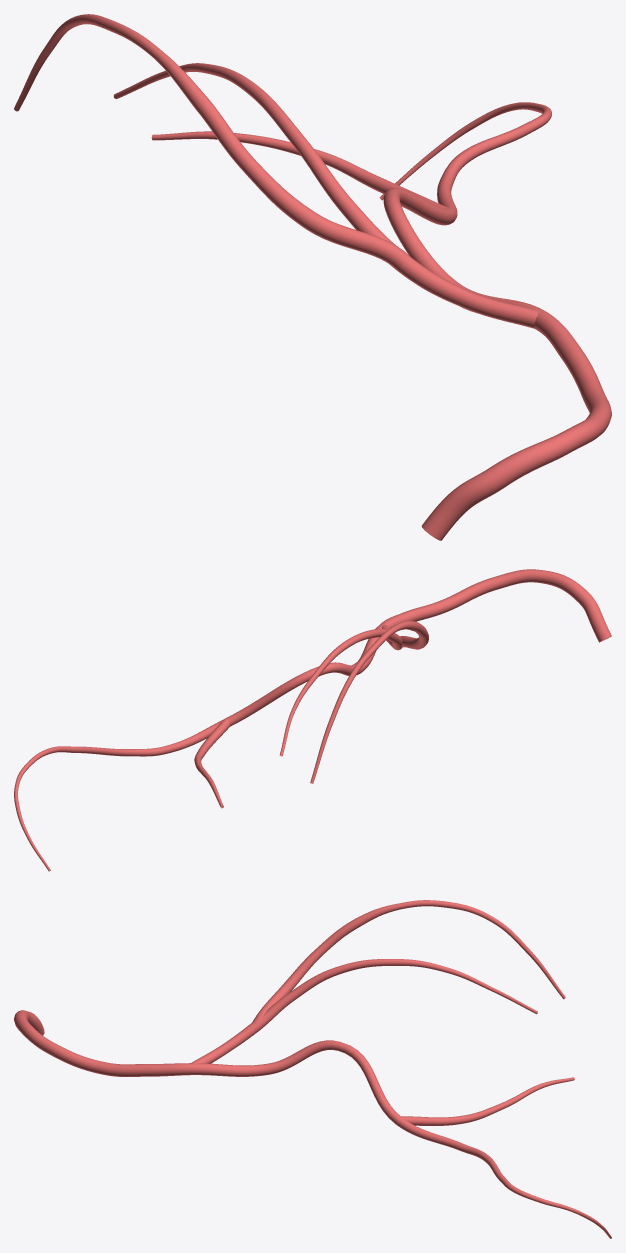
File: Superior_cerebellar_artery.l_BezierCurve.241.glb
3 renders of one model, top to bottom at view 1: azimuth 30°, elevation 25°; view 2: azimuth 150°, elevation 25°; view 3: azimuth 270°, elevation 25°, orthographic. The views are drawn at different scales.
Visible parts, largest first — view 1: Superior_cerebellar_artery.l_BezierCurve.241; view 2: Superior_cerebellar_artery.l_BezierCurve.241; view 3: Superior_cerebellar_artery.l_BezierCurve.241.
Part boxes in pixels (left/top/right/bottom): Superior_cerebellar_artery.l_BezierCurve.241: left=14, top=14, right=611, bottom=540; Superior_cerebellar_artery.l_BezierCurve.241: left=14, top=569, right=611, bottom=871; Superior_cerebellar_artery.l_BezierCurve.241: left=14, top=900, right=611, bottom=1238.
Size of the model in its own units: 0.0463 by 0.0308 by 0.0748.
